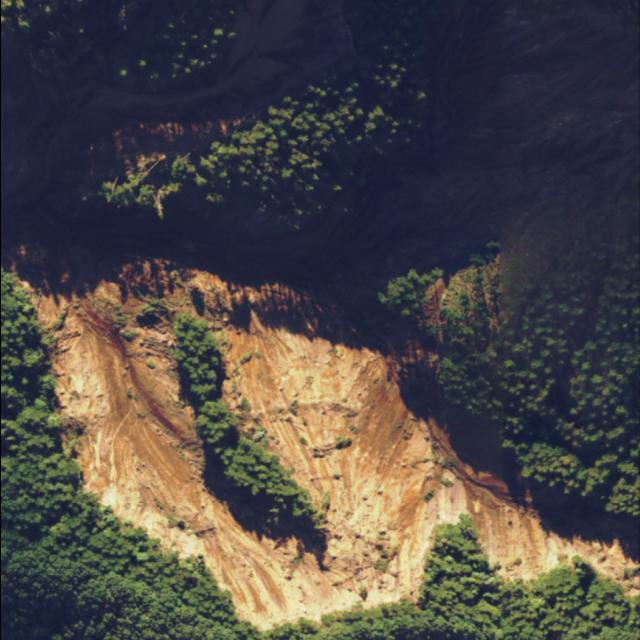landslide: (33, 261, 640, 630)
